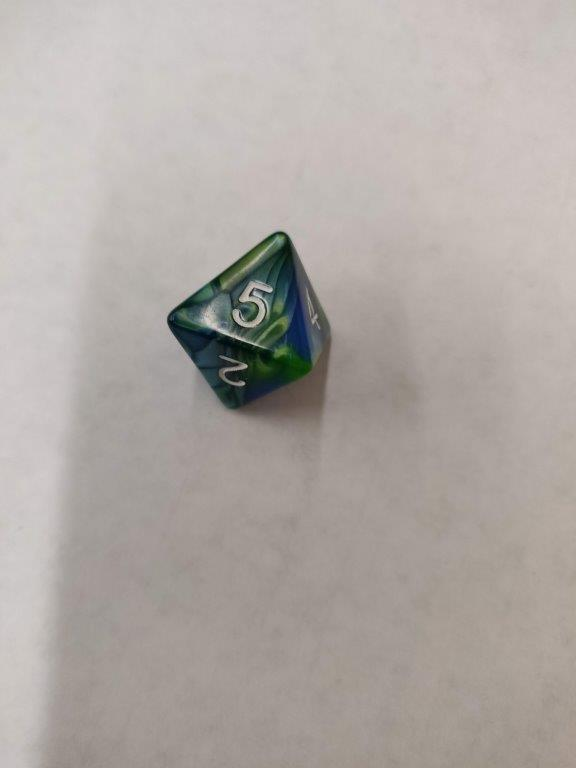d8-5: (164, 229, 331, 411)
